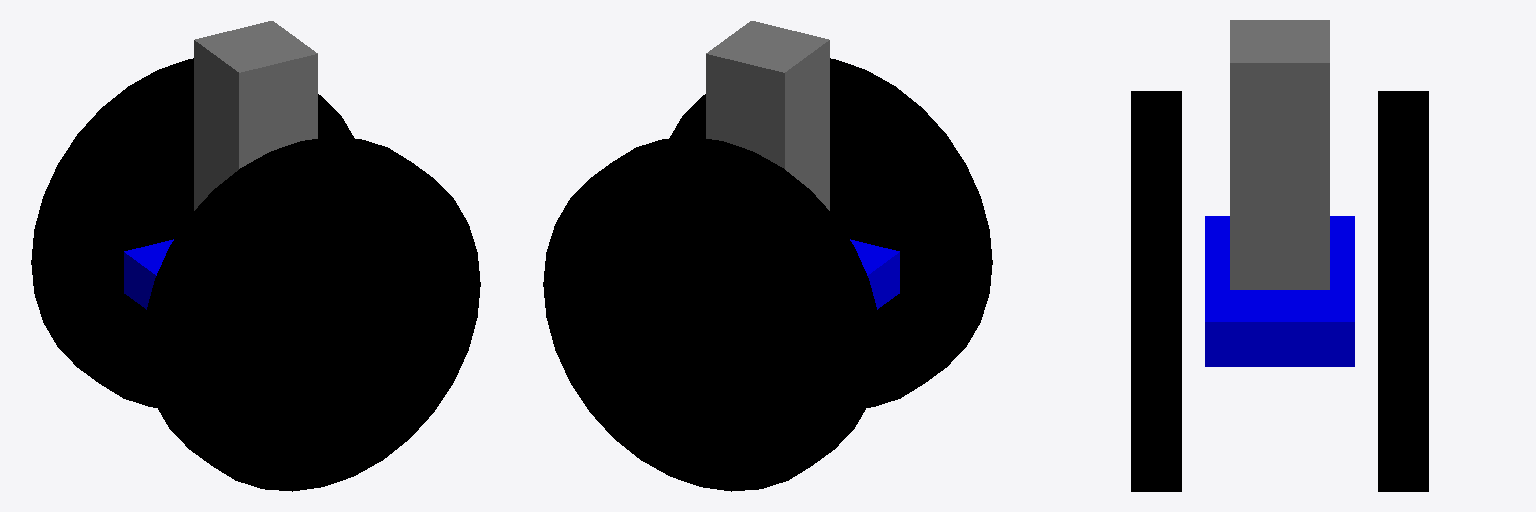
The robot description file, URDF, robot "robile_robot":
<?xml version="1.0"?>
<robot name="robile_robot">
  <!-- Base Link -->
  <link name="base_link">
    <visual>
      <geometry>
        <box size="0.5 0.3 0.1"/>
      </geometry>
      <material name="blue">
        <color rgba="0 0 1 1"/>
      </material>
    </visual>
    <collision>
      <geometry>
        <box size="0.5 0.3 0.1"/>
      </geometry>
    </collision>
    <inertial>
      <origin xyz="0 0 0" rpy="0 0 0"/>
      <mass value="2.0"/>
      <inertia ixx="0.02" ixy="0.0" ixz="0.0" iyy="0.02" iyz="0.0" izz="0.02"/>
    </inertial>
  </link>

  <!-- Right Wheel (tr_trc) -->
  <link name="wheel_tr_trc">
    <visual>
      <geometry>
        <cylinder radius="0.4" length="0.1"/>
      </geometry>
      <material name="black">
        <color rgba="0 0 0 1"/>
      </material>
    </visual>
    <collision>
      <geometry>
        <cylinder radius="0.4" length="0.1"/>
      </geometry>
    </collision>
    <inertial>
      <origin xyz="0 0 0" rpy="0 0 0"/>
      <mass value="0.5"/>
      <inertia ixx="0.01" ixy="0.0" ixz="0.0" iyy="0.01" iyz="0.0" izz="0.01"/>
    </inertial>
  </link>

  <!-- Left Wheel (ph_trc) -->
  <link name="wheel_ph_trc">
    <visual>
      <geometry>
        <cylinder radius="0.4" length="0.1"/>
      </geometry>
      <material name="black"/>
    </visual>
    <collision>
      <geometry>
        <cylinder radius="0.4" length="0.1"/>
      </geometry>
    </collision>
    <inertial>
      <origin xyz="0 0 0" rpy="0 0 0"/>
      <mass value="0.5"/>
      <inertia ixx="0.01" ixy="0.0" ixz="0.0" iyy="0.01" iyz="0.0" izz="0.01"/>
    </inertial>
  </link>

  <!-- Cube on Top -->
  <link name="cube">
    <visual>
      <geometry>
        <box size="0.2 0.2 0.5"/>
      </geometry>
      <material name="gray">
        <color rgba="0.5 0.5 0.5 1"/>
      </material>
    </visual>
    <collision>
      <geometry>
        <box size="0.2 0.2 0.5"/>
      </geometry>
    </collision>
    <inertial>
      <origin xyz="0 0 0" rpy="0 0 0"/>
      <mass value="1.0"/>
      <inertia ixx="0.008" ixy="0.0" ixz="0.0" iyy="0.008" iyz="0.0" izz="0.008"/>
    </inertial>
  </link>

  <!-- Joint for Right Wheel -->
  <joint name="joint_wheel_tr_trc" type="continuous">
    <parent link="base_link"/>
    <child link="wheel_tr_trc"/>
    <origin xyz="0 -0.2465 0" rpy="1.5708 0 0"/>
    <axis xyz="0 1 0"/>
  </joint>

  <!-- Joint for Left Wheel -->
  <joint name="joint_wheel_ph_trc" type="continuous">
    <parent link="base_link"/>
    <child link="wheel_ph_trc"/>
    <origin xyz="0 0.2465 0" rpy="1.5708 0 0"/>
    <axis xyz="0 1 0"/>
  </joint>

  <!-- Joint for Cube -->
  <joint name="joint_cube" type="fixed">
    <parent link="base_link"/>
    <child link="cube"/>
    <origin xyz="0 0 0.3" rpy="0 0 0"/>
  </joint>

  <!-- Gazebo Plugins -->
  <gazebo reference="base_link">
    <material>Gazebo/Blue</material>
  </gazebo>

  <gazebo reference="wheel_tr_trc">
    <material>Gazebo/Black</material>
  </gazebo>

  <gazebo reference="wheel_ph_trc">
    <material>Gazebo/Black</material>
  </gazebo>

  <gazebo reference="cube">
    <material>Gazebo/Gray</material>
  </gazebo>

  <!-- Differential Drive Plugin -->
  <gazebo>
    <plugin name="diff_drive_controller" filename="libgazebo_ros_diff_drive.so">
      <alwaysOn>true</alwaysOn>
      <updateRate>100</updateRate>
      <leftJoint>joint_wheel_ph_trc</leftJoint>
      <rightJoint>joint_wheel_tr_trc</rightJoint>
      <wheelSeparation>0.1465</wheelSeparation>
      <wheelDiameter>0.8</wheelDiameter> <!-- 2 * wheel_radius -->
      <topicName>/cmd_vel</topicName>
      <odometryTopic>/odom</odometryTopic>
      <odometryFrame>odom</odometryFrame>
      <robotBaseFrame>base_link</robotBaseFrame>
      <publishWheelTF>true</publishWheelTF>
      <publishWheelJointState>true</publishWheelJointState>
      <publishOdomTF>true</publishOdomTF>
      <publishOdom>true</publishOdom>
      <torque>10.0</torque>
      <maxWheelTorque>10.0</maxWheelTorque>
      <maxWheelAcceleration>100</maxWheelAcceleration>
      <robotNamespace>na</robotNamespace>
    </plugin>
  </gazebo>
</robot>

--- What the picture shows (computed from the rendered views, not written in the file) ---
Views: 3 orthographic renders of the robot side by side, from view 1: azimuth 30°, elevation 25°; view 2: azimuth 150°, elevation 25°; view 3: azimuth 270°, elevation 25°.
Robot: robile_robot — 4 links, 3 joints (2 continuous, 1 fixed); root link base_link; default pose: every joint at zero.
Visible links, largest first — view 1: wheel_tr_trc, wheel_ph_trc, cube, base_link; view 2: wheel_ph_trc, wheel_tr_trc, cube, base_link; view 3: cube, wheel_tr_trc, wheel_ph_trc, base_link.
Link boxes in pixels (x1=…): wheel_tr_trc: x1=143, y1=137, x2=480, y2=491; wheel_ph_trc: x1=31, y1=58, x2=354, y2=407; cube: x1=194, y1=21, x2=317, y2=210; base_link: x1=124, y1=239, x2=173, y2=309; wheel_ph_trc: x1=543, y1=137, x2=880, y2=491; wheel_tr_trc: x1=669, y1=58, x2=992, y2=407; cube: x1=706, y1=21, x2=829, y2=210; base_link: x1=850, y1=239, x2=899, y2=309; cube: x1=1230, y1=20, x2=1329, y2=289; wheel_tr_trc: x1=1131, y1=91, x2=1181, y2=491; wheel_ph_trc: x1=1378, y1=91, x2=1428, y2=491; base_link: x1=1205, y1=216, x2=1354, y2=366.
Size in the robot's own frame: 0.8 by 0.593 by 0.95 metres.
Geometry: primitives only (box / cylinder / sphere), no mesh files.